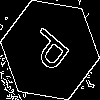P: (25, 25, 79, 80)
